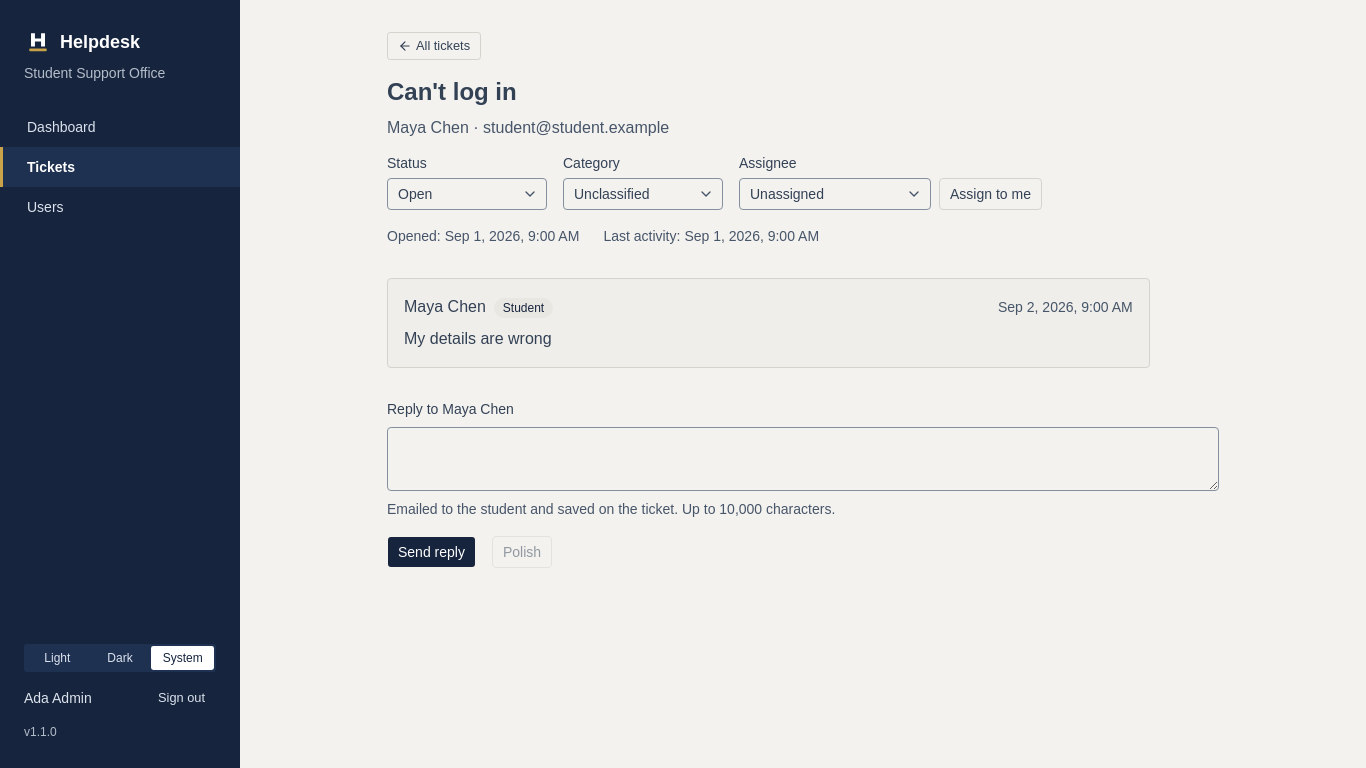
it: a reply appears in the thread, and the box empties
The image size is (1366, 768).
Type "I have reset your password." into the text box labelled "Reply to Maya Chen". click: (803, 459)
box: [387,427,1219,491]
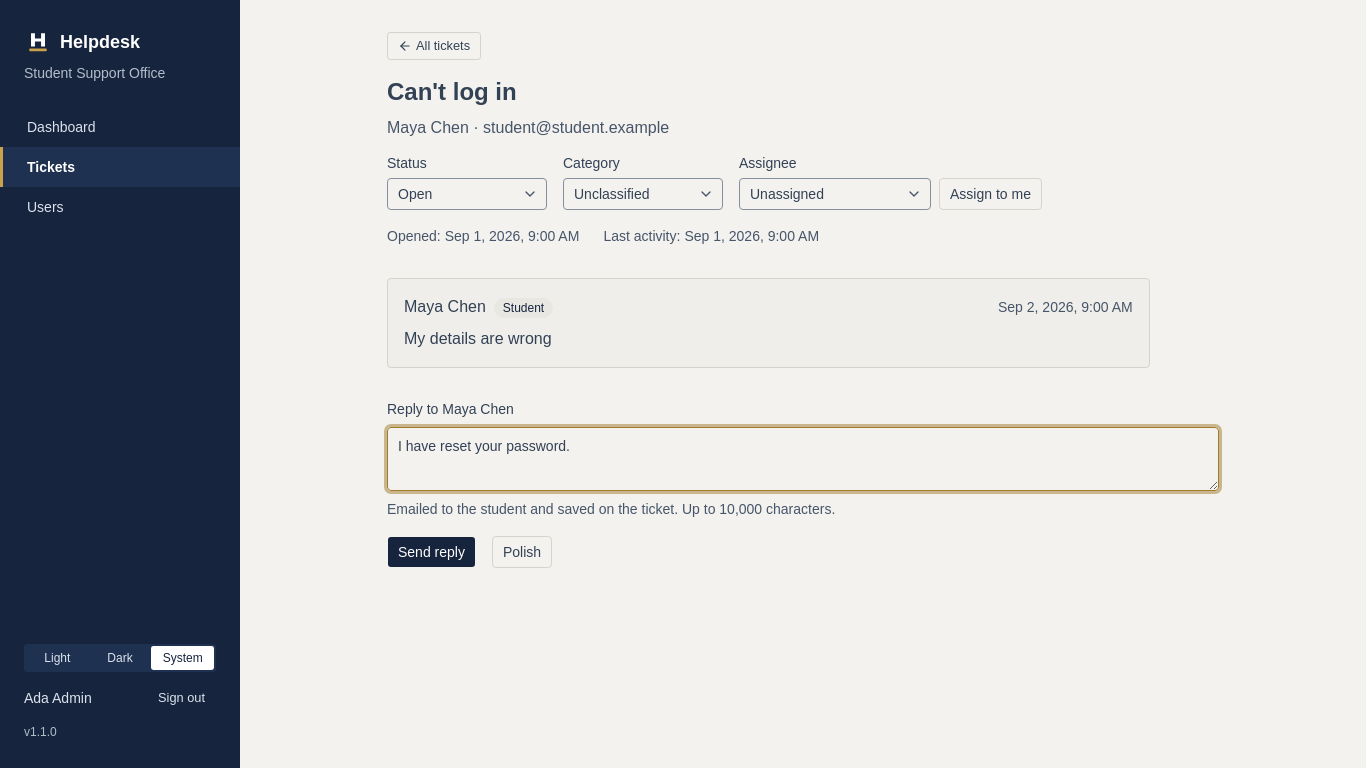
Click the button "Send reply". click: (431, 552)
box: [387,536,476,568]
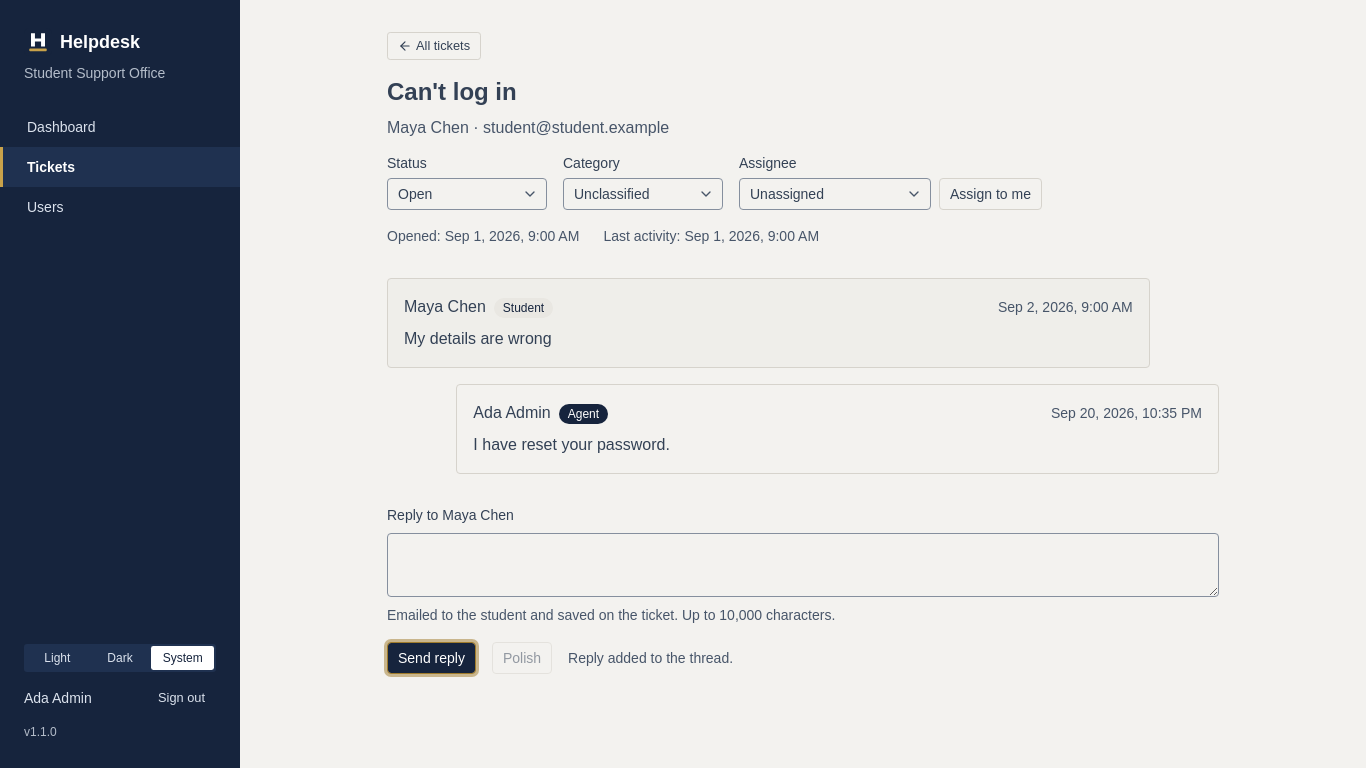
Expected: the text "I have reset your password." is shown, [473,436,670,453]
Expected: the text box labelled "Reply to Maya Chen" is empty, [387,533,1219,597]
Expected: the text "Reply added to the thread." is shown, [568,648,733,668]
